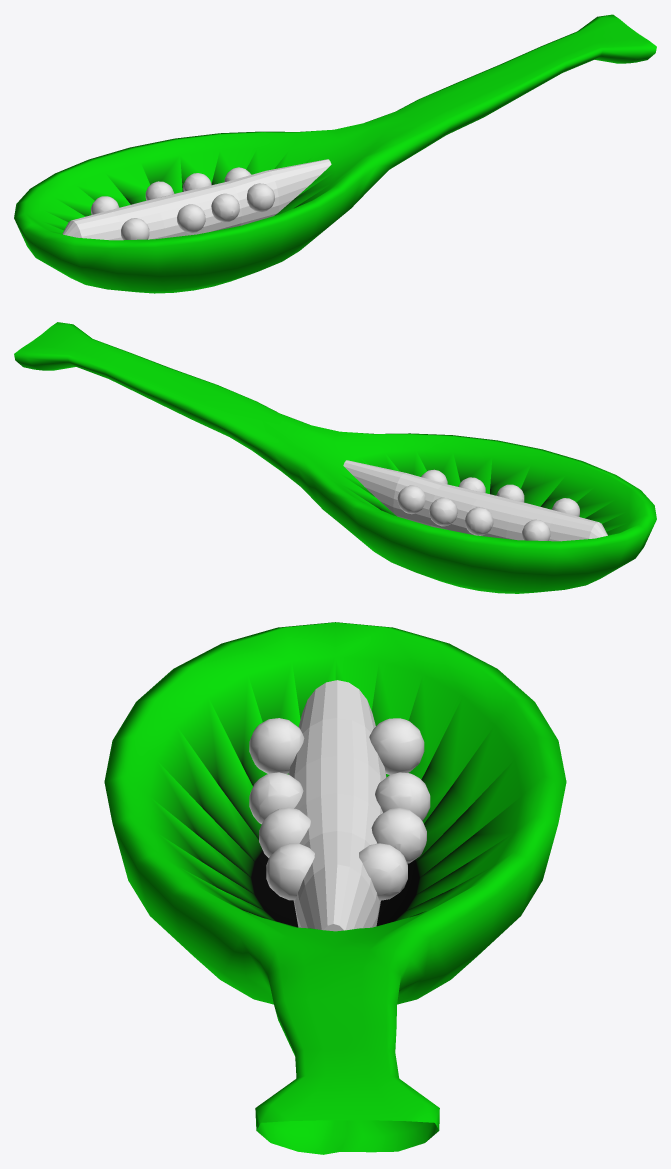
File: FLOWERcROSSsECTIONfEMALE__1.fbx
3 views of the same model, one above another, from view 1: azimuth 30°, elevation 25°; view 2: azimuth 150°, elevation 25°; view 3: azimuth 270°, elevation 25° (orthographic). The views are drawn at different scales.
Visible parts, largest first — view 1: pSphere9, Cylinder.001, Mball; view 2: pSphere9, Cylinder.001, Mball; view 3: pSphere9, Cylinder.001, Mball.
Part boxes in pixels (x1=…): pSphere9: x1=14, y1=14, x2=656, y2=293; Cylinder.001: x1=62, y1=159, x2=331, y2=240; Mball: x1=91, y1=167, x2=274, y2=240; pSphere9: x1=14, y1=322, x2=656, y2=593; Cylinder.001: x1=343, y1=460, x2=607, y2=541; Mball: x1=397, y1=469, x2=579, y2=540; pSphere9: x1=104, y1=622, x2=566, y2=1154; Cylinder.001: x1=288, y1=680, x2=386, y2=931; Mball: x1=249, y1=718, x2=430, y2=900.
Size of the model in its own units: 9 by 1.83 by 2.96.
